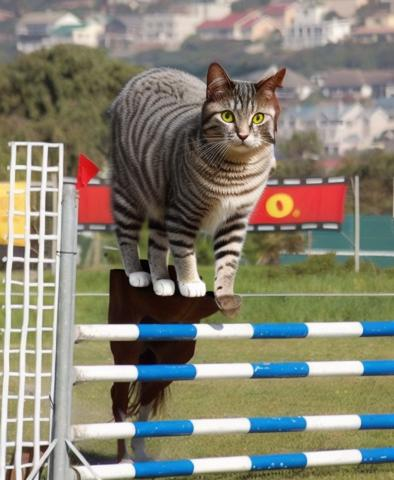cat: (106, 64, 270, 297)
horse: (109, 64, 288, 464)
